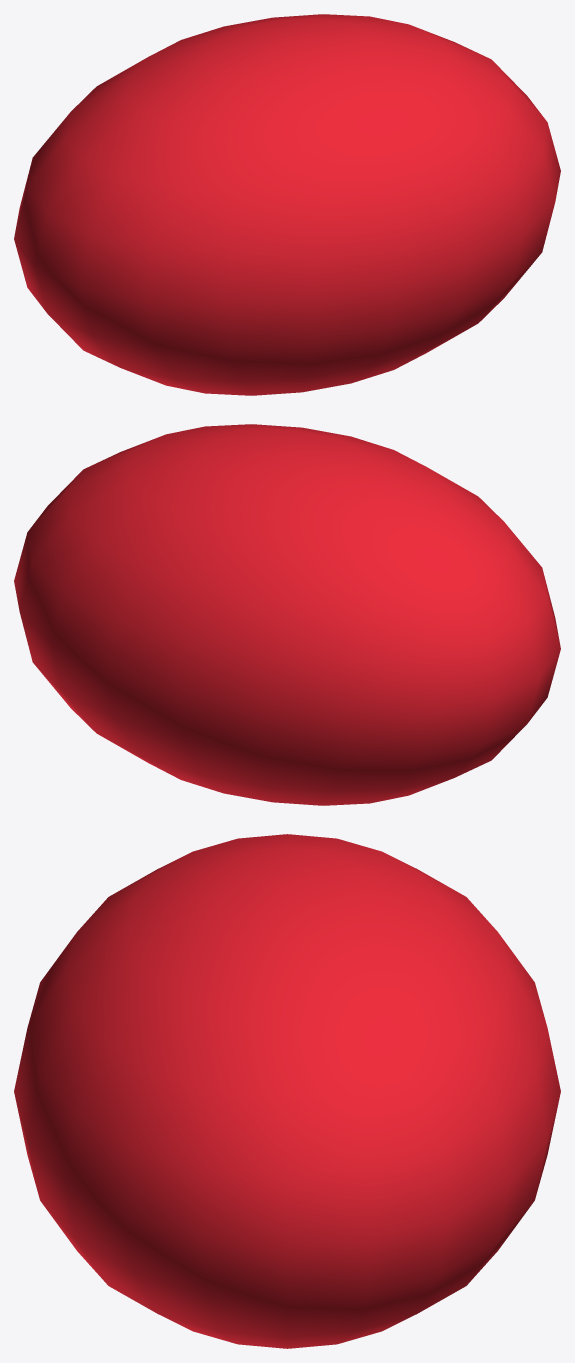
File: Candy_01.fbx
The picture shows the model from 3 angles, top to bottom: view 1: azimuth 30°, elevation 25°; view 2: azimuth 150°, elevation 25°; view 3: azimuth 270°, elevation 25°; orthographic projection. The views are drawn at different scales.
Parts seen in each view (by area): view 1: Ruby_oval_dragee; view 2: Ruby_oval_dragee; view 3: Ruby_oval_dragee.
Part boxes in pixels (left/top/right/bottom): Ruby_oval_dragee: left=14, top=14, right=560, bottom=395; Ruby_oval_dragee: left=14, top=424, right=560, bottom=805; Ruby_oval_dragee: left=14, top=834, right=560, bottom=1348.
Bounding box in the file's own units: 94 × 58 × 70.
